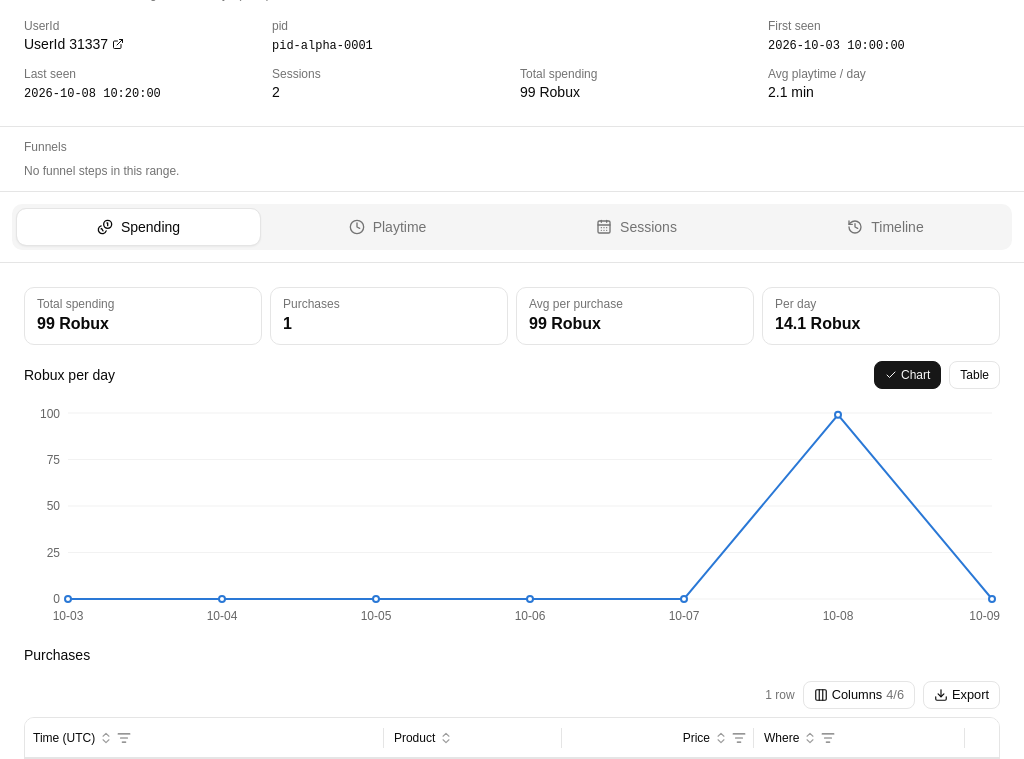
Scenario: Players page: the player detail container › Table shows the same numbers in the shared table, per day; Chart goes back
The image size is (1024, 759).
(page scrolled)
Expected: the picture named "Robux per day, line chart" is shown, [24,405,1000,629]
Click the radio button labelled "Table": (975, 375) [949,361,1000,389]
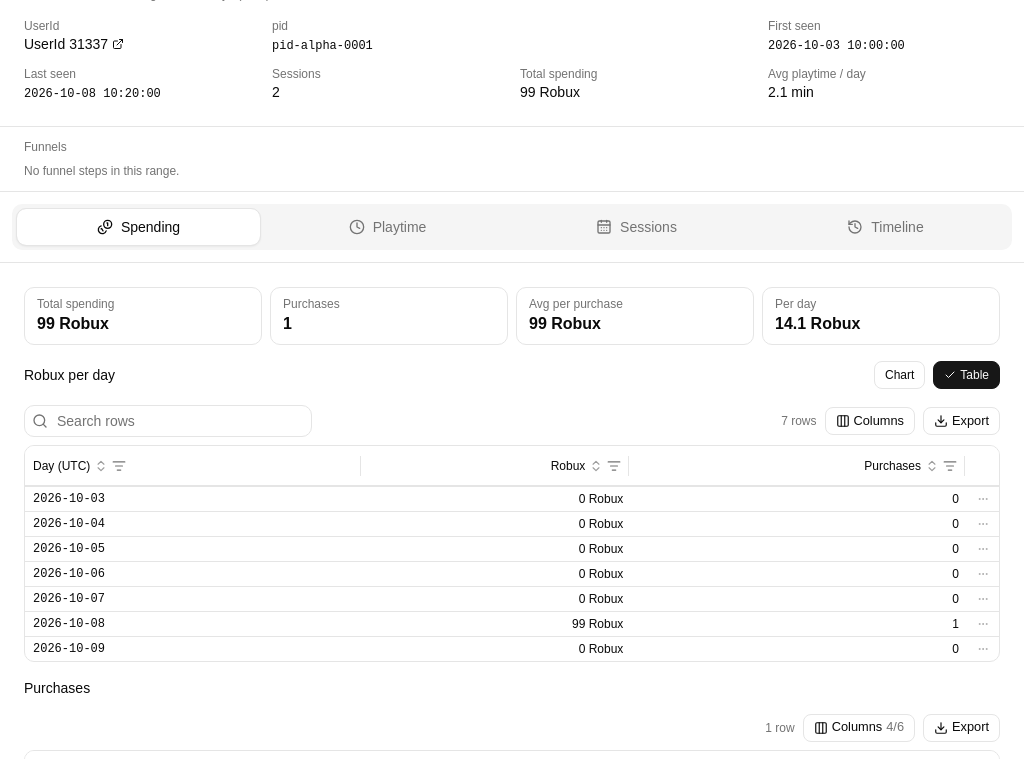
Expected: the text "1" is shown, [631,611,967,636]
Now the text "99 Robux" is shown, box [362,611,631,636]
// The choice holds across views.
Click the button "Playtime": (388, 227) [265,208,510,246]
(page scrolled)
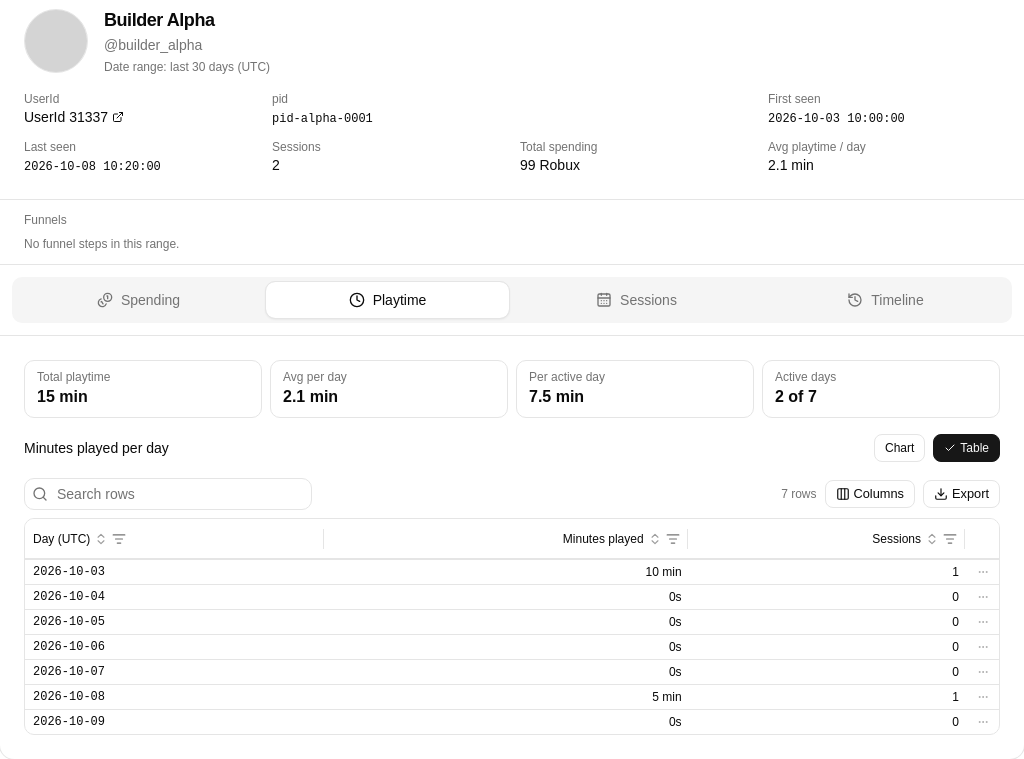
Now the table named "Minutes played per day" is shown, box [25,519,999,734]
Click the radio button labelled "Chart": (900, 448) [874,434,925,462]
(page scrolled)
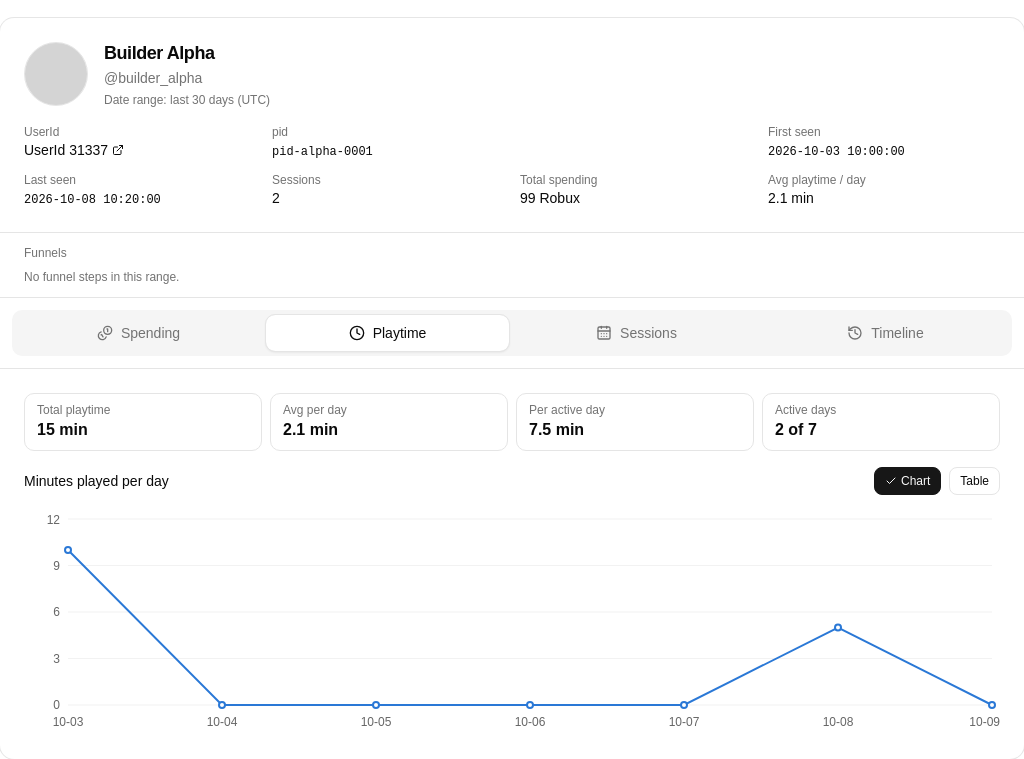
Now the picture named "Minutes played per day, line chart" is shown, box [24,511,1000,735]
